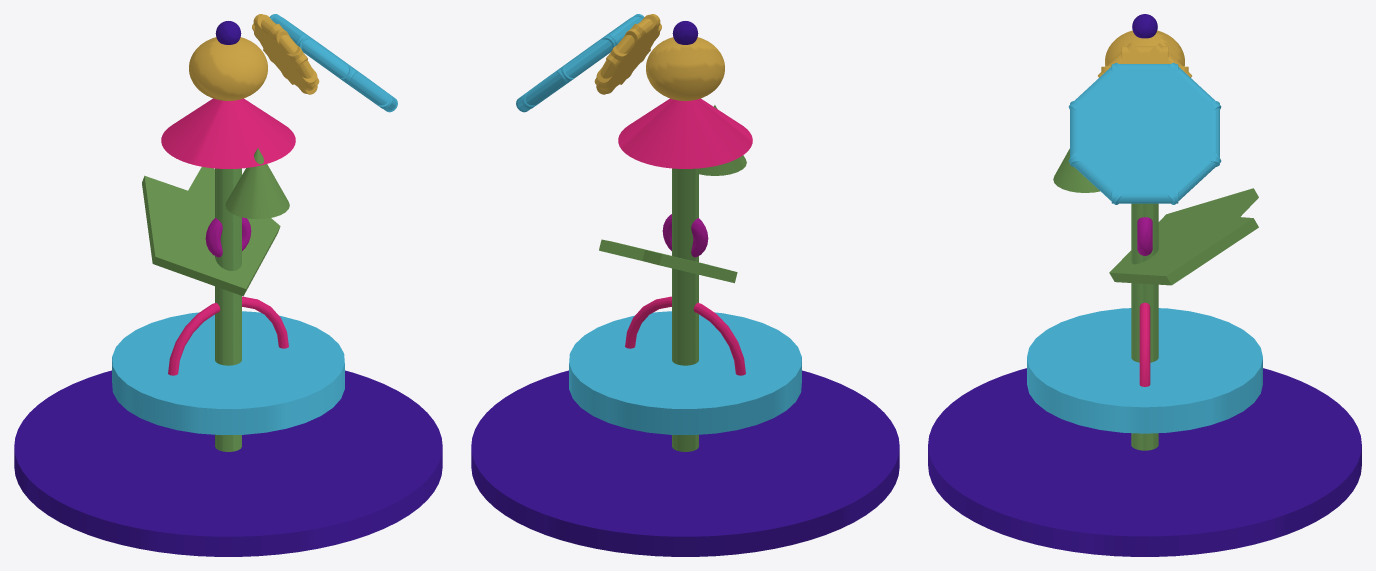
Rendered from 0087_植物图鉴_水仙.glb.
3 renders of one model, left to right at view 1: azimuth 30°, elevation 25°; view 2: azimuth 150°, elevation 25°; view 3: azimuth 270°, elevation 25°, orthographic.
Visible parts, largest first — view 1: card_0087; view 2: card_0087; view 3: card_0087.
Boxes of the visible parts, x1,y1,x2,y2 form: card_0087: [14, 14, 442, 556]; card_0087: [471, 14, 899, 556]; card_0087: [928, 14, 1361, 556].
Size of the model in its own units: 0.8724 by 1 by 0.8734.
